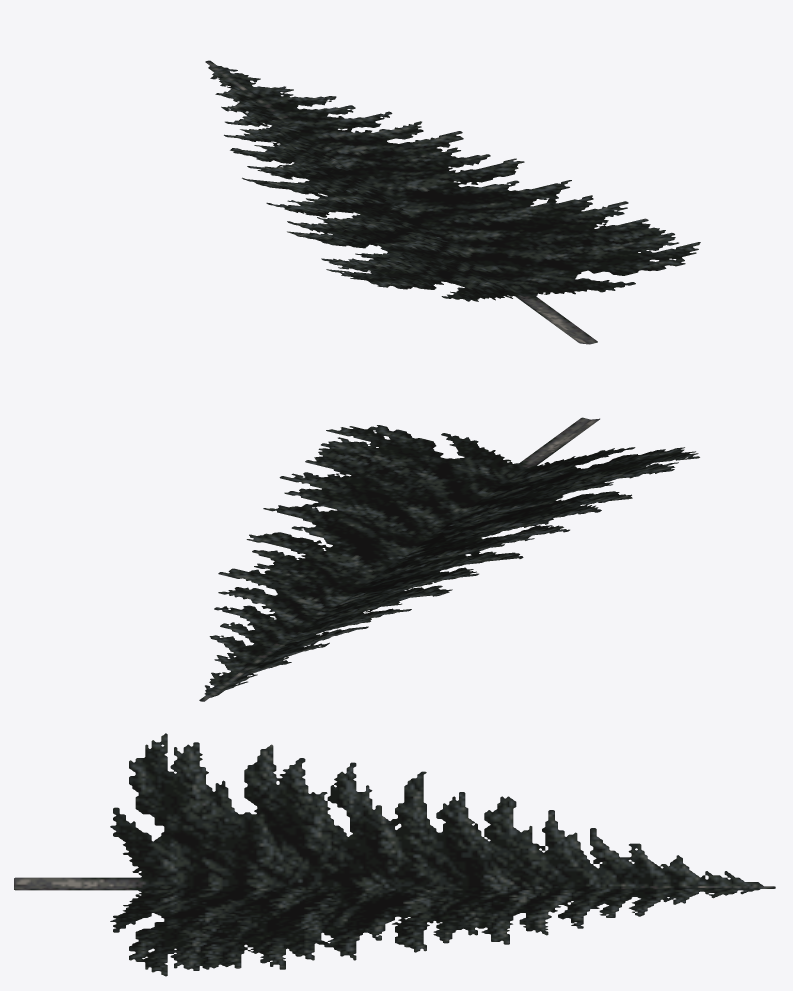
Rendered from SM_EC_Tree_Card_Bent_02.fbx.
The picture shows the model from 3 angles, top to bottom: view 1: azimuth 30°, elevation 25°; view 2: azimuth 150°, elevation 25°; view 3: azimuth 270°, elevation 25°; orthographic projection.
Visible parts, largest first — view 1: SM_EC_Tree_Card_Bent_02; view 2: SM_EC_Tree_Card_Bent_02; view 3: SM_EC_Tree_Card_Bent_02.
Part boxes in pixels (x1,y1,x2,y2): SM_EC_Tree_Card_Bent_02: (205,60,700,344); SM_EC_Tree_Card_Bent_02: (199,417,699,701); SM_EC_Tree_Card_Bent_02: (14,733,775,976).
Size of the model in its own units: 2.1 by 3.73 by 0.3418.
